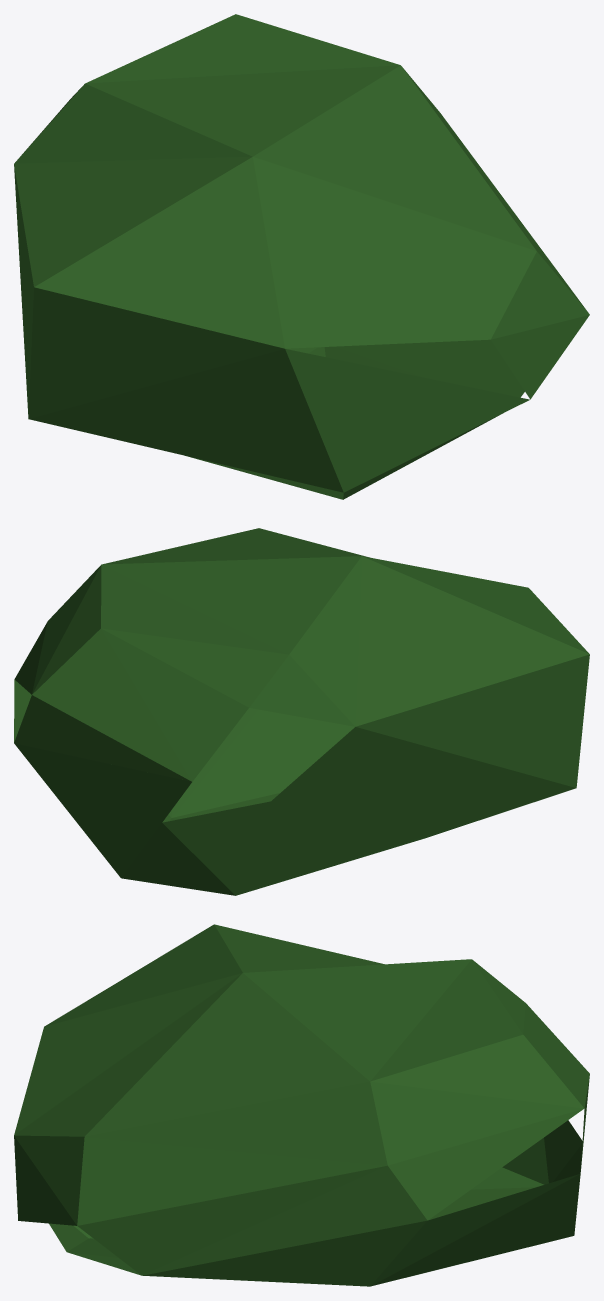
The model's file is Bush4_low.glb.
3 renders of one model, top to bottom at view 1: azimuth 30°, elevation 25°; view 2: azimuth 150°, elevation 25°; view 3: azimuth 270°, elevation 25°, orthographic. The views are drawn at different scales.
Parts seen in each view (by area): view 1: Bush_temp_climate_008; view 2: Bush_temp_climate_008; view 3: Bush_temp_climate_008.
Part boxes in pixels (x1,y1,x2,y2): Bush_temp_climate_008: [14, 14, 589, 499]; Bush_temp_climate_008: [14, 528, 589, 895]; Bush_temp_climate_008: [14, 924, 589, 1286].
Size of the model in its own units: 1.04 by 0.5483 by 1.09.
